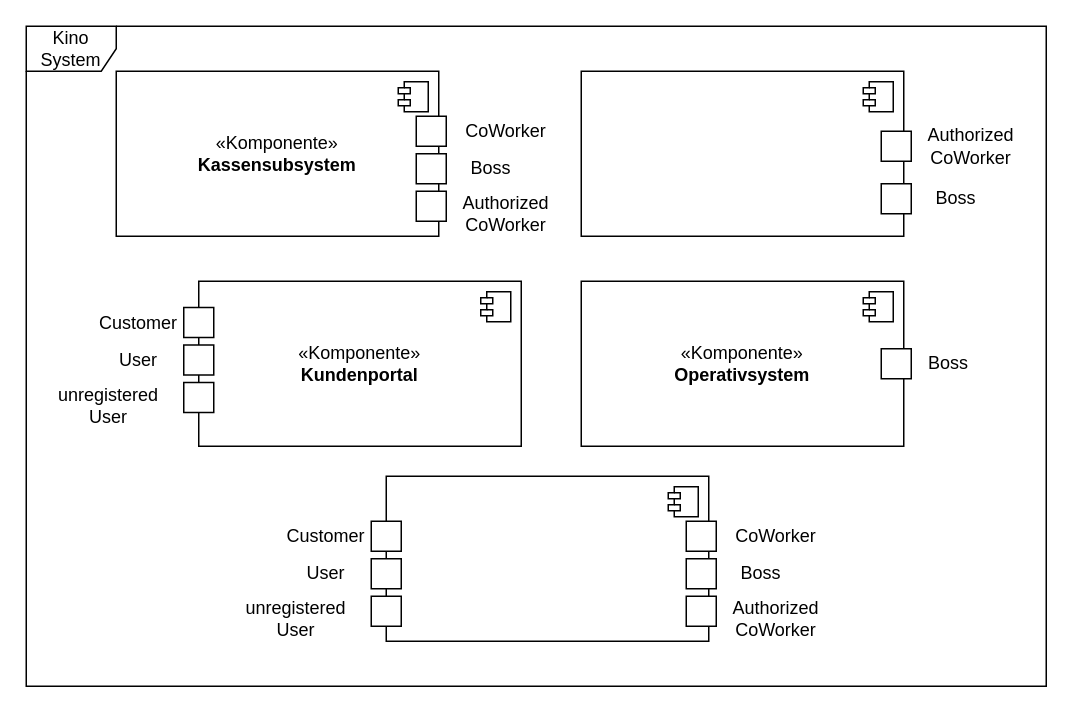
Some shapes in this 1073 by 713 pixel diagram are drawn without their labels. The box of each missing label's shape, as (x1, y1, x2, y2) in pixels:
«Komponente» Loginsystem: (385, 475, 709, 641)
«Komponente» Verwaltungssystem: (580, 70, 904, 236)
